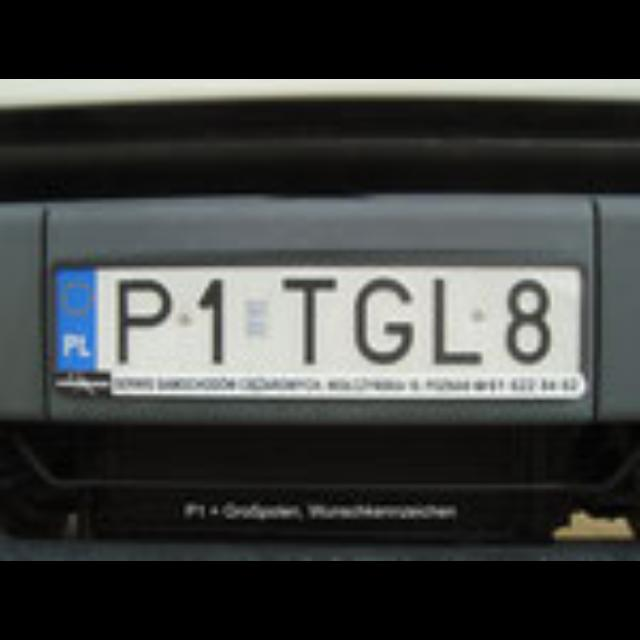pl_license_plate: (48, 263, 580, 369)
